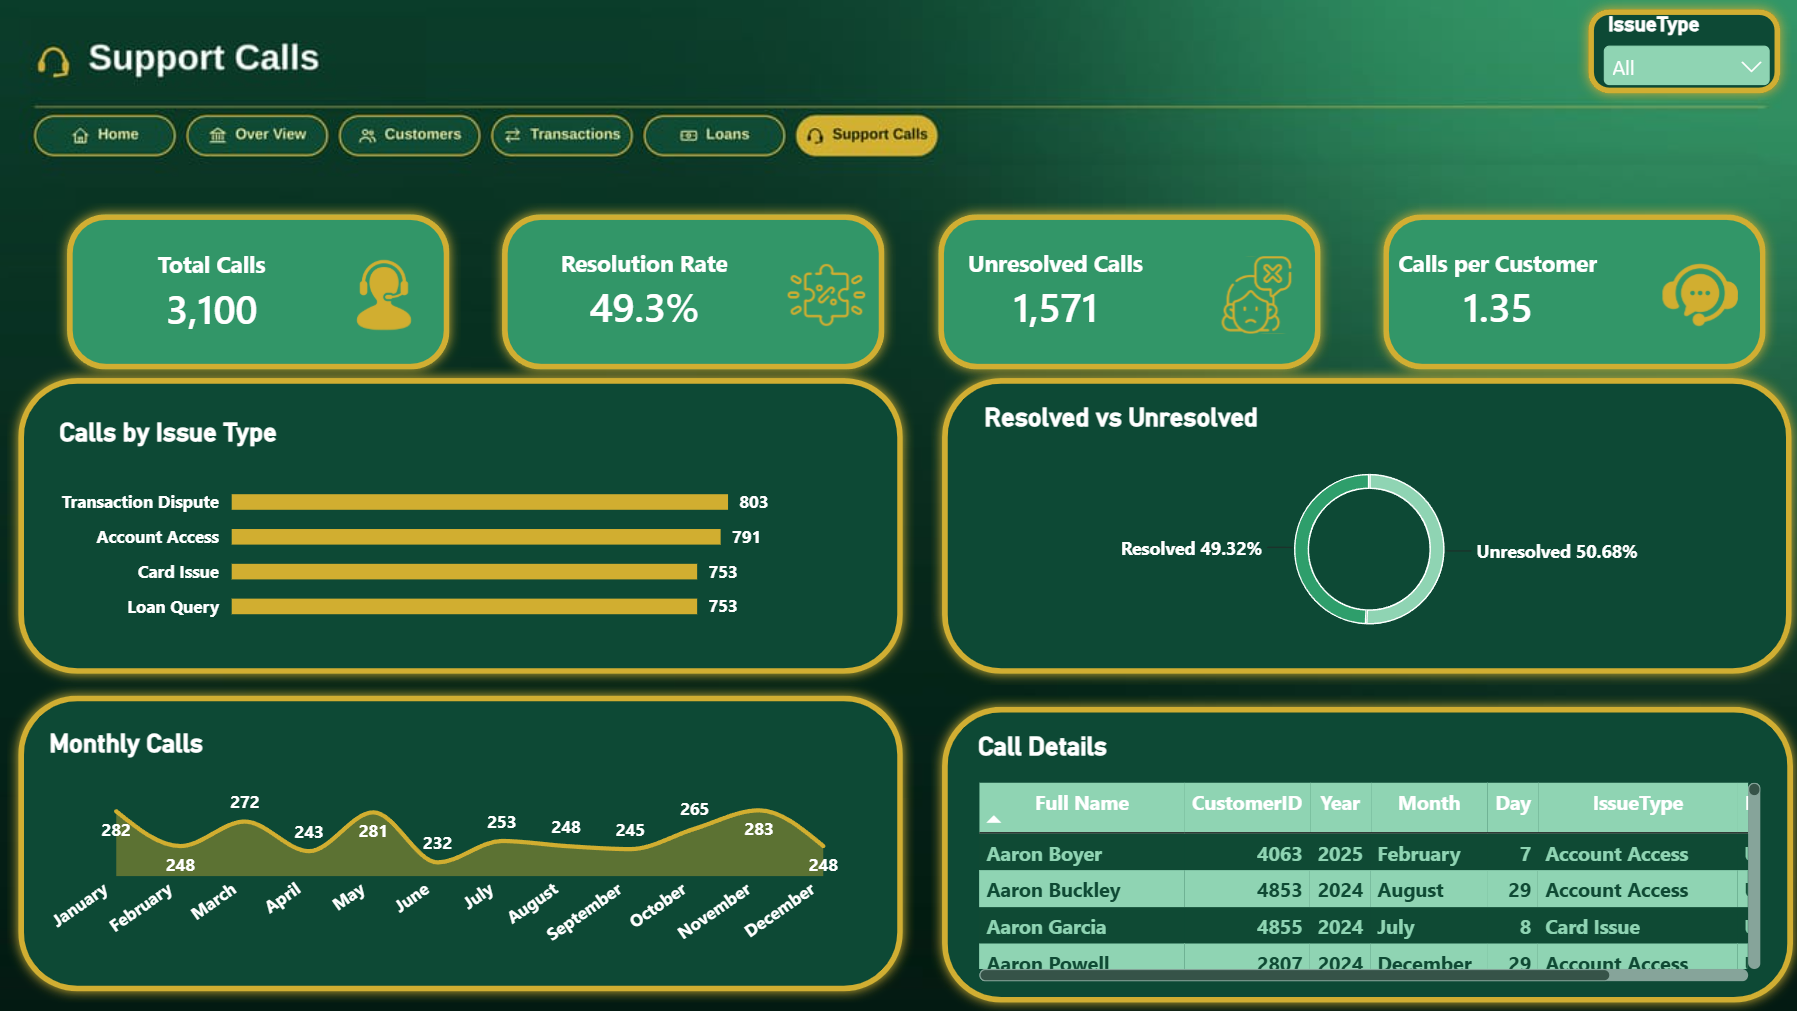

Layout of this report page (visuals, bound fields, positions):
{"tool":"powerbi","page":{"name":"Support Calls","canvas":[1280,720],"ordinal":5},"visuals":[{"type":"actionButton","box":[350.8,82.4,99.2,32.8],"z":0},{"type":"actionButton","box":[458.9,82.4,99.2,32.8],"z":1000},{"type":"actionButton","box":[242.7,82.4,99.2,32.8],"z":2000},{"type":"actionButton","box":[135.5,82.4,99.2,32.8],"z":3000},{"type":"actionButton","box":[28.4,82.4,99.2,32.8],"z":4000},{"type":"shape","box":[42,145.5,287,126],"z":4001},{"type":"shape","box":[974.4,145.5,287,126],"z":4002},{"type":"shape","box":[659.2,145.5,287,126],"z":4003},{"type":"shape","box":[349.7,145.5,287,126],"z":4004},{"type":"cardVisual","fields":{"Data":["_Measures.Total Support Calls"]},"box":[70.9,160.4,221.5,96.6],"z":4005},{"type":"cardVisual","fields":{"Data":["_Measures.Resolution Rate %"]},"box":[383.2,160.4,221.5,96.6],"z":4006},{"type":"cardVisual","fields":{"Data":["_Measures.Unresolved Calls"]},"box":[684.4,160.4,221.5,96.6],"z":4007},{"type":"cardVisual","fields":{"Data":["_Measures.Calls per Calling Customer"]},"box":[993.9,160.4,235.9,97],"z":4008},{"type":"shape","box":[7.5,261.1,642.9,225.6],"z":4009},{"type":"shape","box":[662,494.2,619.1,225.6],"z":4010},{"type":"shape","box":[662,261.1,618.2,225.6],"z":4011},{"type":"shape","box":[7.5,486.7,642.9,225.6],"z":4012},{"type":"clusteredBarChart","title":"\tCalls by Issue Type","fields":{"Category":["SupportCalls.IssueType"],"Y":["_Measures.Total Support Calls"]},"box":[28,282.5,592.1,180.9],"z":4013},{"type":"lineChart","title":"\tMonthly Calls","fields":{"Category":["SupportCalls.CallDate.Variation.Date Hierarchy.Month"],"Y":["_Measures.Total Support Calls"]},"box":[21.4,503.5,598.6,196.7],"z":4014},{"type":"donutChart","title":"Resolved vs Unresolved","fields":{"Category":["SupportCalls.Resolution Status"],"Y":["_Measures.Total Support Calls"]},"box":[684,271.6,577.3,201.7],"z":4015},{"type":"tableEx","title":"Call Details","fields":{"Values":["customers.Full Name","SupportCalls.CustomerID","SupportCalls.CallDate.Variation.Date Hierarchy.Year","SupportCalls.CallDate.Variation.Date Hierarchy.Month","SupportCalls.CallDate.Variation.Date Hierarchy.Day","SupportCalls.IssueType","SupportCalls.Resolution Status"]},"box":[679.5,504.7,586.3,208],"z":4016},{"type":"shape","box":[1119.7,0,152,75.5],"z":4017},{"type":"slicer","fields":{"Values":["SupportCalls.IssueType"]},"box":[1134.1,9.9,127.3,55.6],"z":4018}]}

Visuals, with their boxes in screenshot pixels (x1, y1, x2, y2), scaled from the page's 1280x720 canvas onto the 1797x1011 screenshot:
actionButton: 492 116 632 162
actionButton: 644 116 784 162
actionButton: 341 116 480 162
actionButton: 190 116 329 162
actionButton: 40 116 179 162
shape: 59 204 462 381
shape: 1368 204 1771 381
shape: 925 204 1328 381
shape: 491 204 894 381
cardVisual - _Measures.Total Support Calls: 100 225 411 361
cardVisual - _Measures.Resolution Rate %: 538 225 849 361
cardVisual - _Measures.Unresolved Calls: 961 225 1272 361
cardVisual - _Measures.Calls per Calling Customer: 1395 225 1727 361
shape: 11 367 913 683
shape: 929 694 1796 1010
shape: 929 367 1796 683
shape: 11 683 913 1000
"	Calls by Issue Type" clusteredBarChart: 39 397 871 651
"	Monthly Calls" lineChart: 30 707 870 983
"Resolved vs Unresolved" donutChart: 960 381 1771 665
"Call Details" tableEx: 954 709 1777 1001
shape: 1572 0 1785 106
slicer - SupportCalls.IssueType: 1592 14 1771 92
